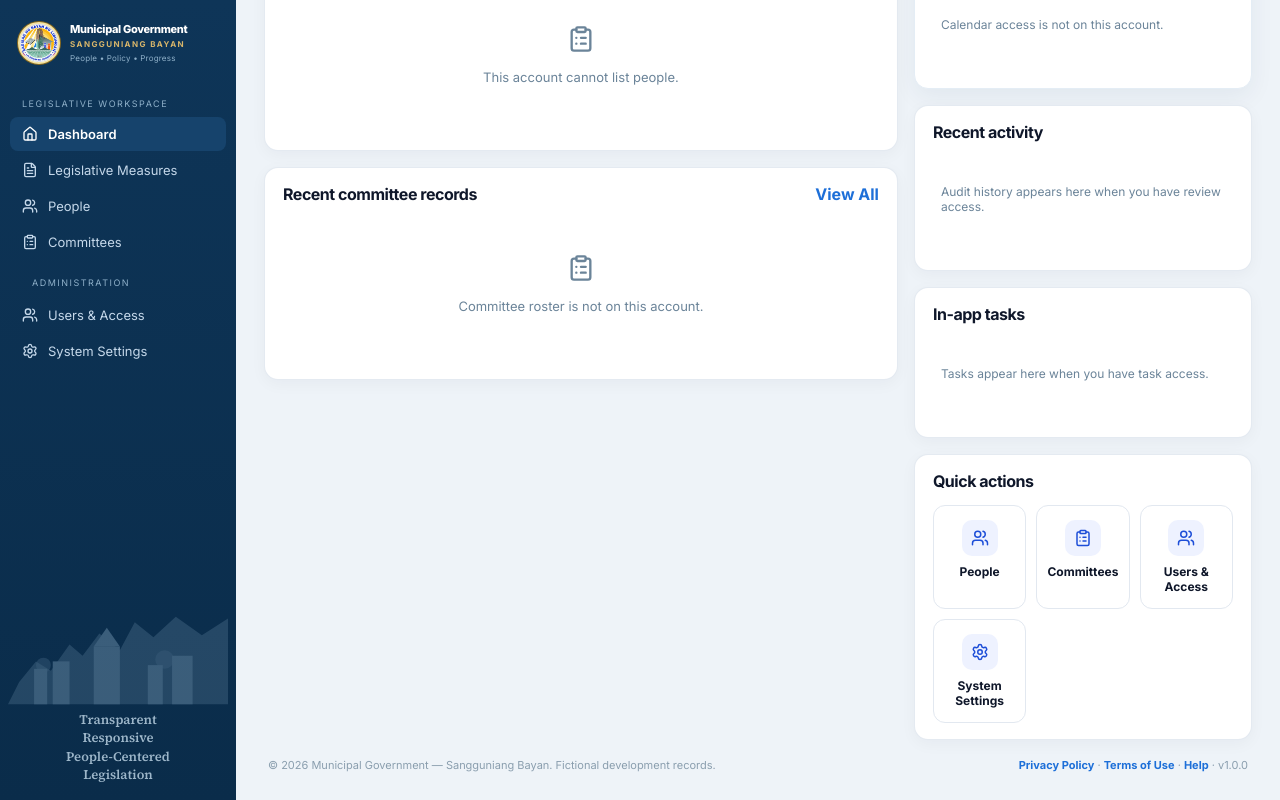
Test case: workspace boundaries › opens footer notices and offers a committee picker for staff grants
(page scrolled)
Click the button "Privacy Policy" at (1056, 764), box [1019,758,1094,772]
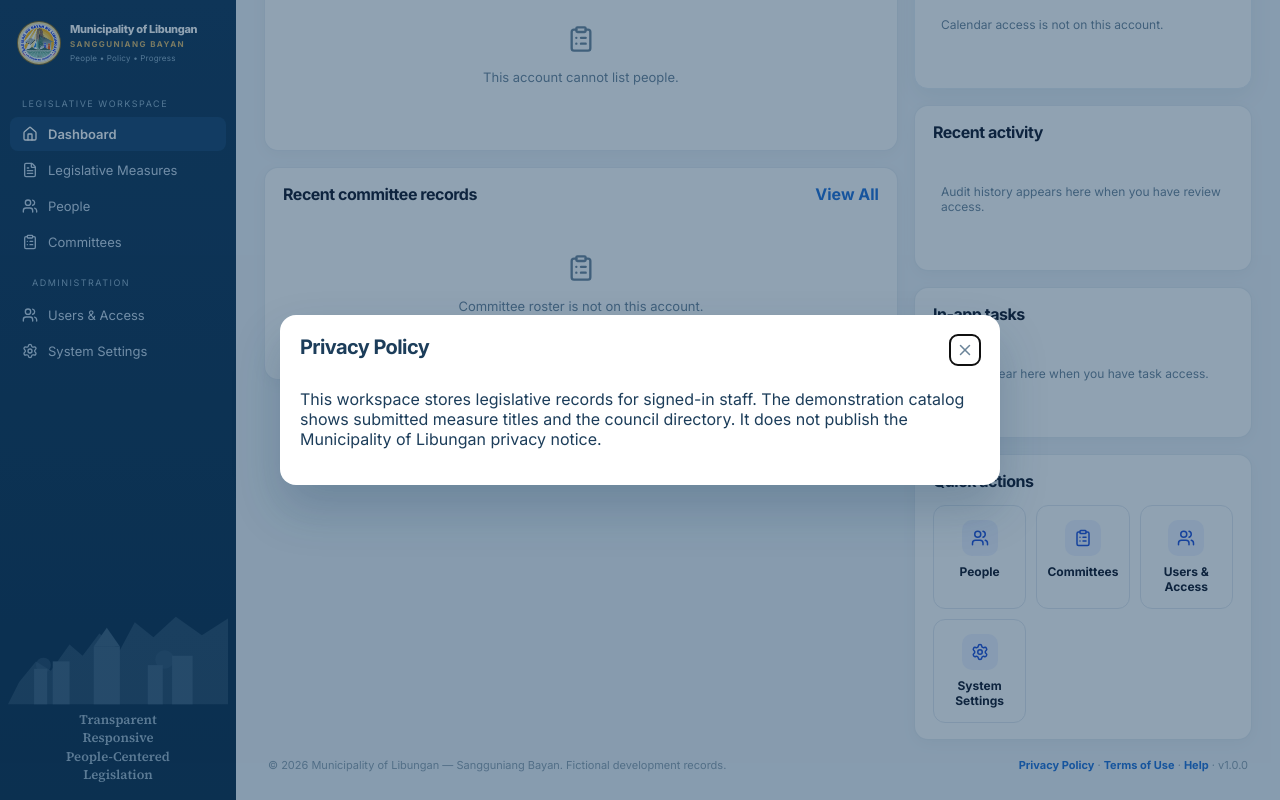
expect the dialog "Privacy Policy" is shown: met, box [280,315,1000,485]
expect the text "does not publish the Municipality of Libungan privacy notice" is shown: met, box [300,389,964,449]
Click the button named "Close" at (965, 350), box [950,335,980,365]
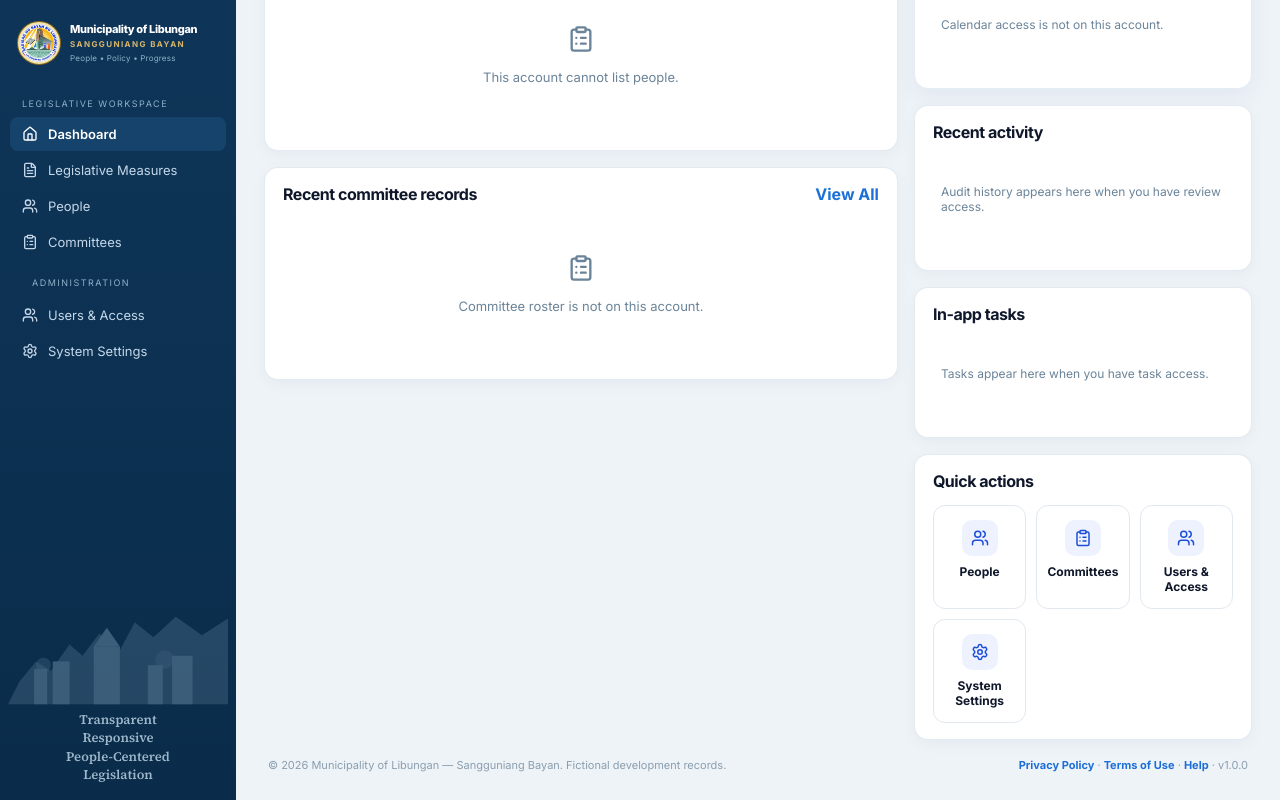
Click the button "Users & Access" below "ADMINISTRATION" at (118, 314), box [10,298,226,332]
(page scrolled)
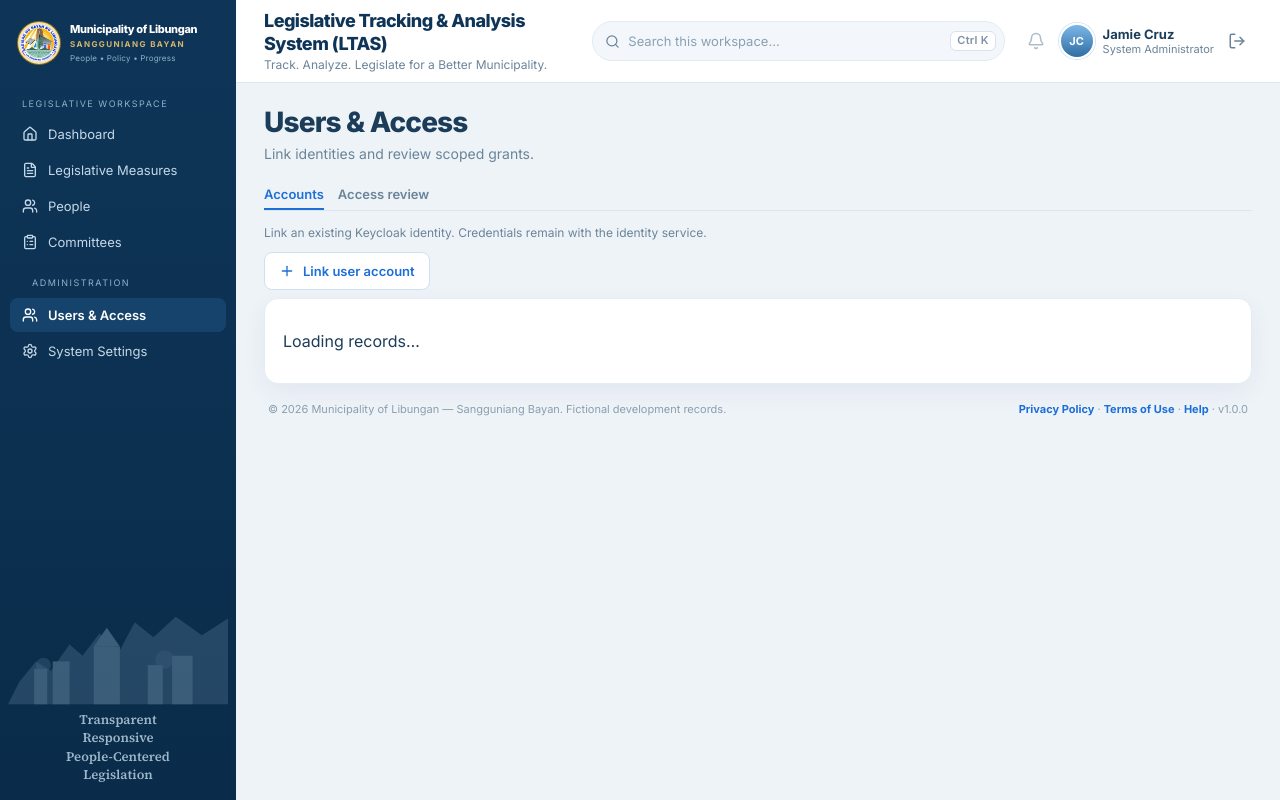
Click the button "Access review" at (384, 194), box [338,178,429,210]
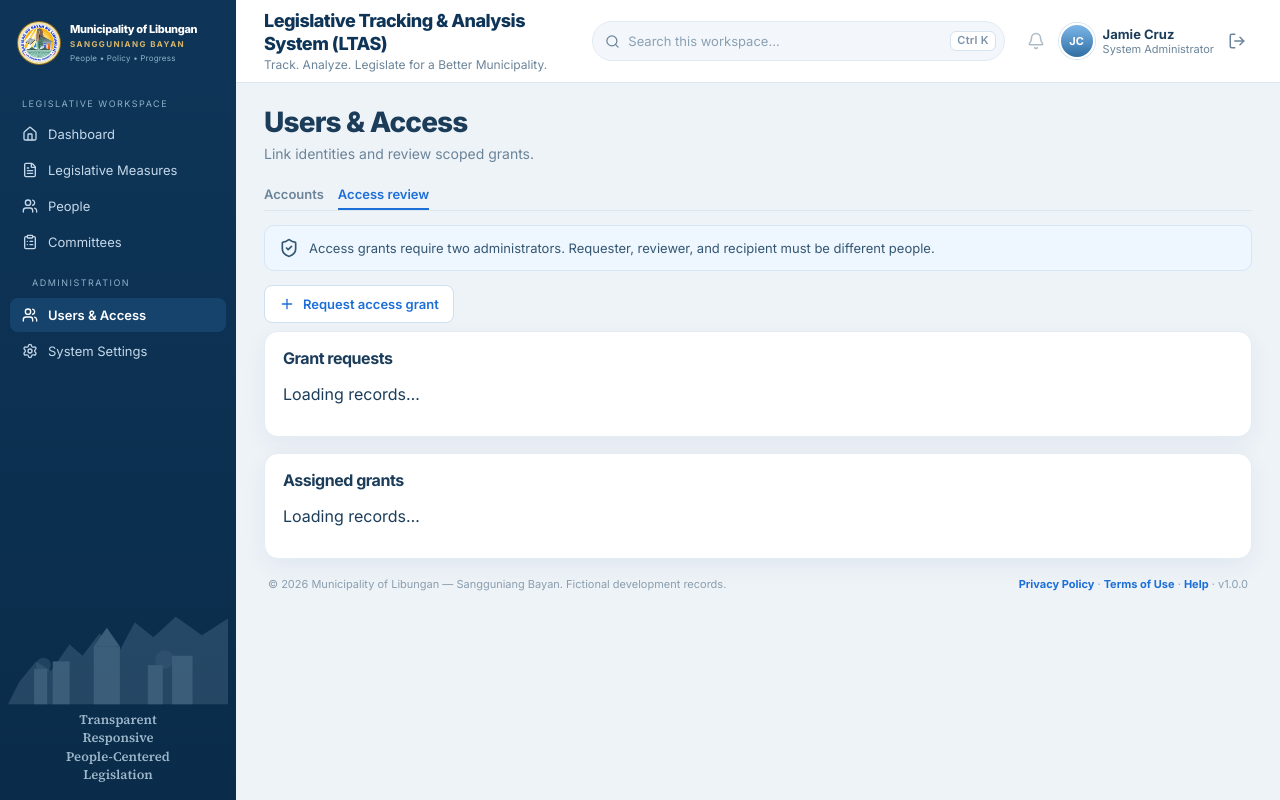
Click the button "Request access grant" at (359, 304), box [264,285,454,323]
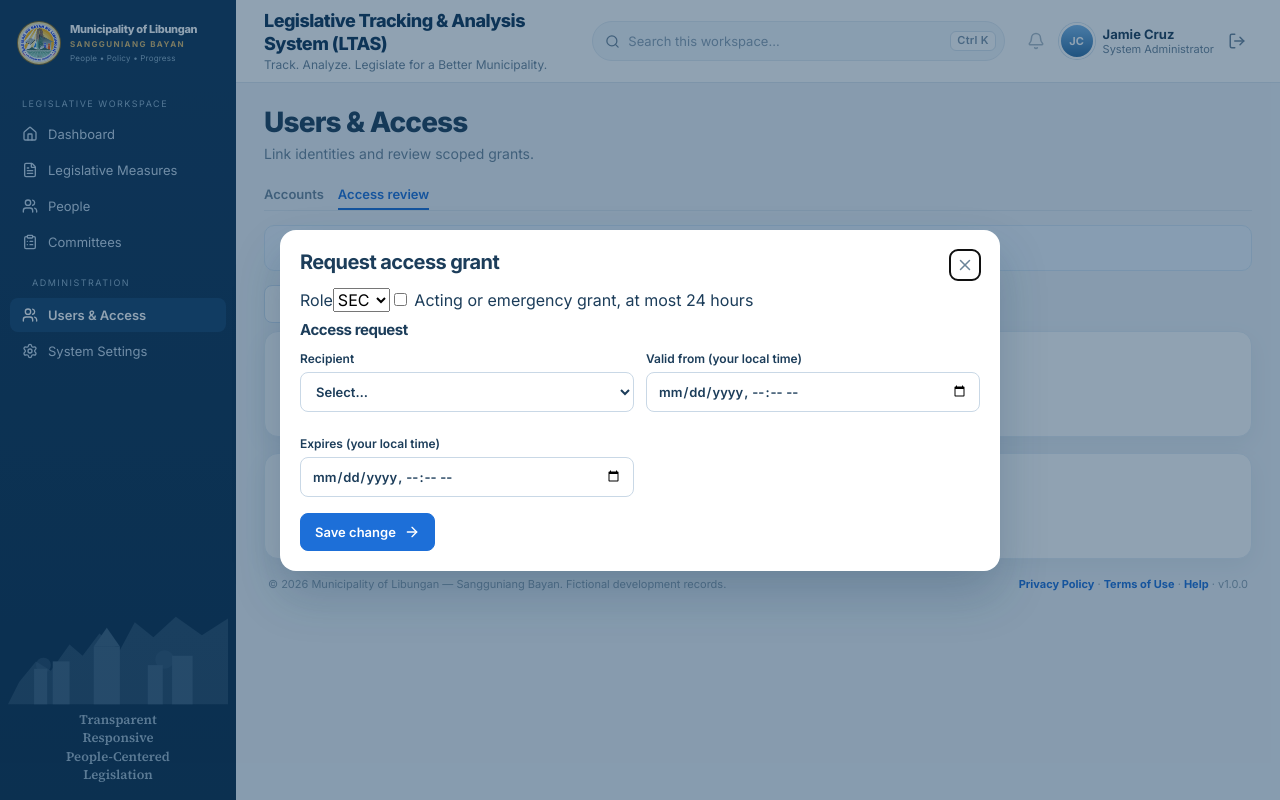
expect the checkbox labelled "Acting or emergency grant, at most 24 hours" is not checked: met, box [394,292,407,306]
Select "CS" in the dropdown labelled "Role" at (361, 300), box [333,288,390,312]
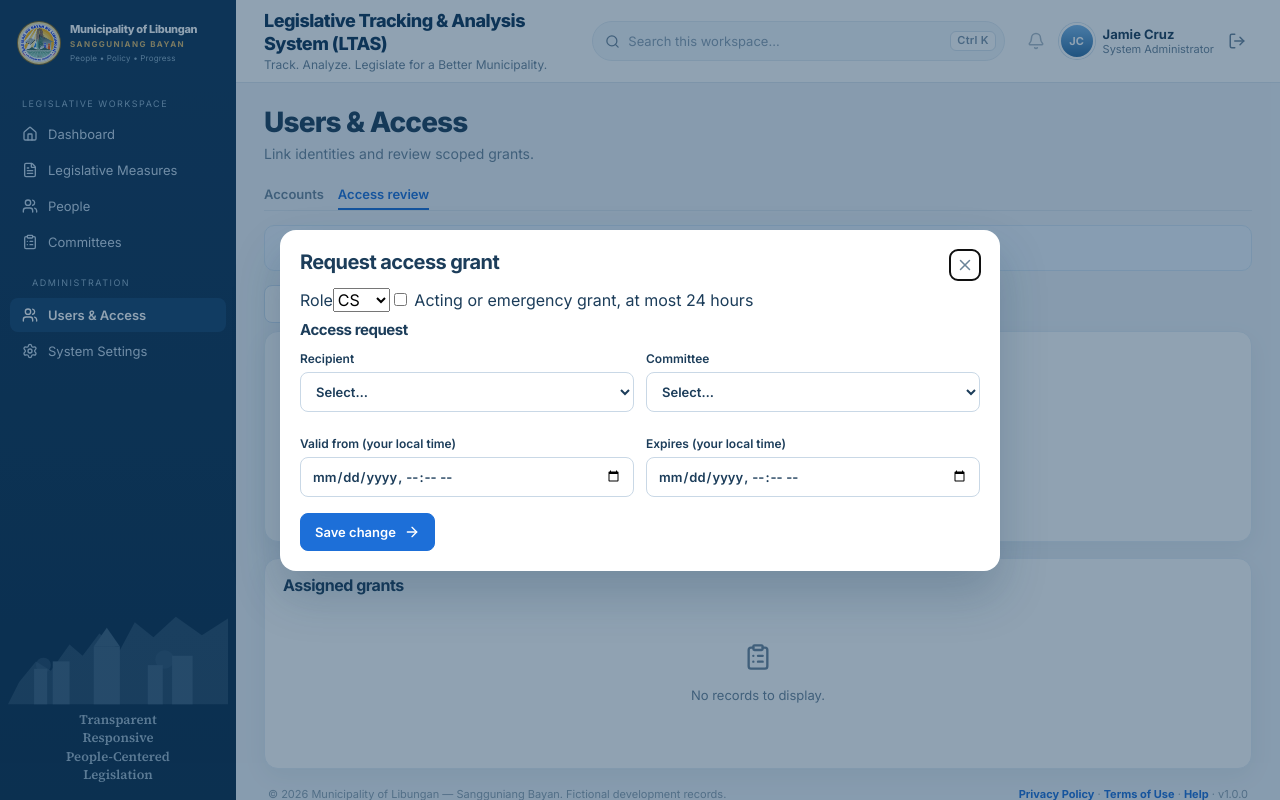
expect the dropdown labelled "Committee" is shown: met, box [646,372,980,412]
